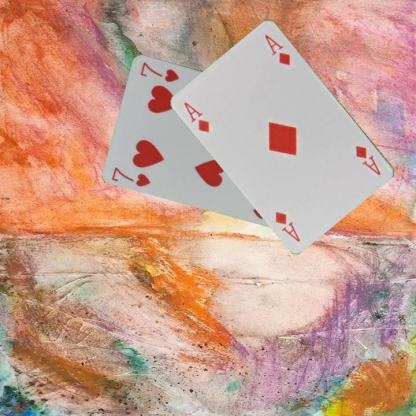7h: (109, 164, 153, 188)
Ad: (182, 99, 212, 134), (353, 143, 382, 177)
